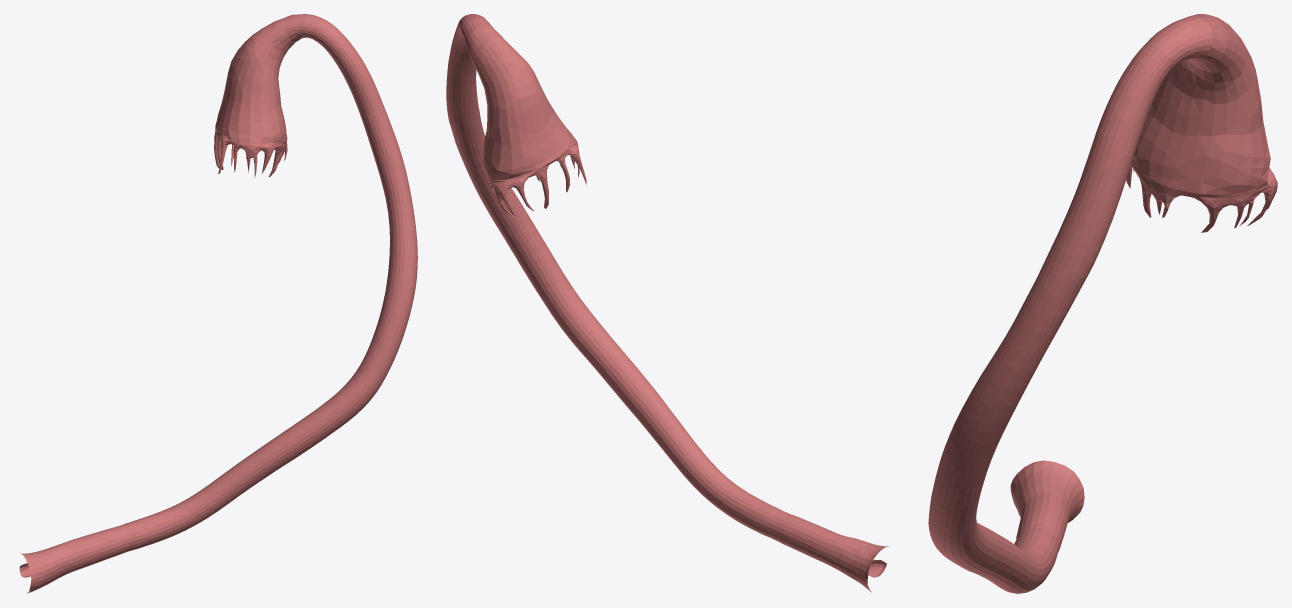
Rendered from VH_F_Fallopian_Tube_L_0.4.glb.
The picture shows the model from 3 angles, left to right: view 1: azimuth 30°, elevation 25°; view 2: azimuth 150°, elevation 25°; view 3: azimuth 270°, elevation 25°; orthographic projection. The views are drawn at different scales.
Parts seen in each view (by area): view 1: VH_F_ampulla_of_uterine_tube_L, VH_F_uterine_tube_infundibulum_L, VH_F_isthmus_of_fallopian_tube_L, VH_F_fibria_of_uterine_tube_L; view 2: VH_F_ampulla_of_uterine_tube_L, VH_F_uterine_tube_infundibulum_L, VH_F_isthmus_of_fallopian_tube_L, VH_F_fibria_of_uterine_tube_L; view 3: VH_F_ampulla_of_uterine_tube_L, VH_F_uterine_tube_infundibulum_L, VH_F_isthmus_of_fallopian_tube_L, VH_F_fibria_of_uterine_tube_L.
Part boxes in pixels (x1,y1,x2,y2): VH_F_ampulla_of_uterine_tube_L: [118, 14, 417, 551]; VH_F_uterine_tube_infundibulum_L: [215, 15, 299, 142]; VH_F_isthmus_of_fallopian_tube_L: [19, 526, 127, 593]; VH_F_fibria_of_uterine_tube_L: [214, 127, 287, 177]; VH_F_ampulla_of_uterine_tube_L: [446, 14, 785, 539]; VH_F_uterine_tube_infundibulum_L: [465, 26, 574, 180]; VH_F_isthmus_of_fallopian_tube_L: [771, 512, 889, 592]; VH_F_fibria_of_uterine_tube_L: [486, 137, 586, 217]; VH_F_ampulla_of_uterine_tube_L: [928, 16, 1213, 593]; VH_F_uterine_tube_infundibulum_L: [1133, 14, 1270, 194]; VH_F_isthmus_of_fallopian_tube_L: [1010, 460, 1084, 552]; VH_F_fibria_of_uterine_tube_L: [1126, 158, 1277, 232].
Size of the model in its own units: 0.0386 by 0.0445 by 0.0186.
